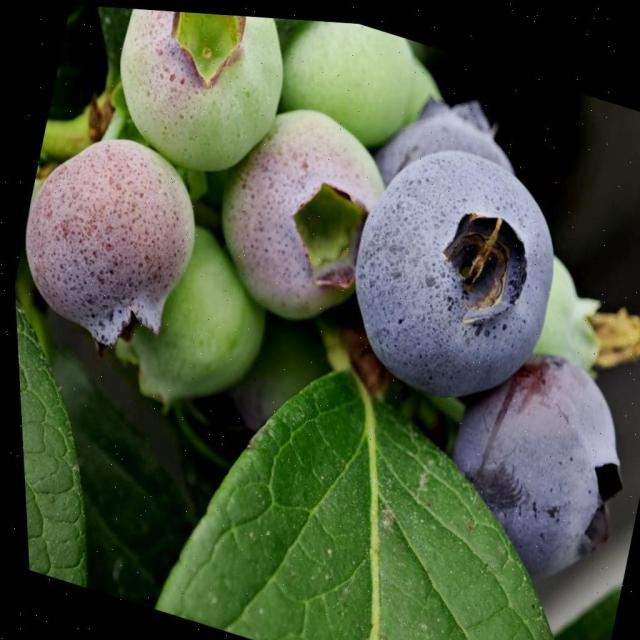RipeBlueBerry: (318, 112, 586, 426), (417, 319, 640, 590)
Semi-RipeBlueBerry: (4, 109, 218, 373), (192, 80, 407, 340)
UnripeBlueBerry: (93, 5, 306, 188)
